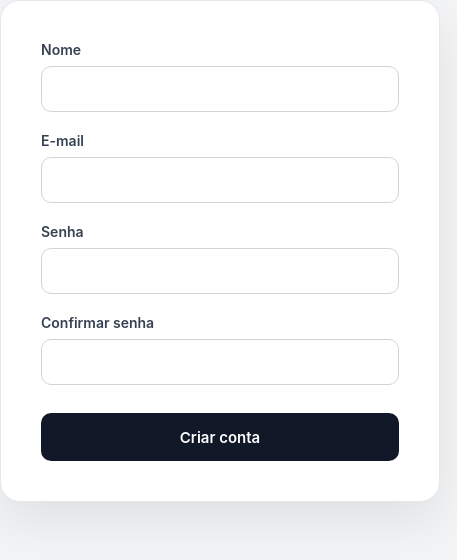
RegisterForm › should display an error when passwords do not match
Type "Senha123" into the password field labelled "Senha" at (220, 271), box [41, 248, 399, 294]
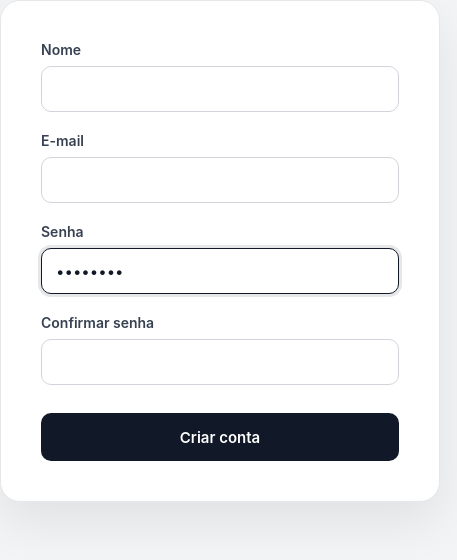
Type "Senha456" into the password field labelled "Confirmar senha" at (220, 362), box [41, 339, 399, 385]
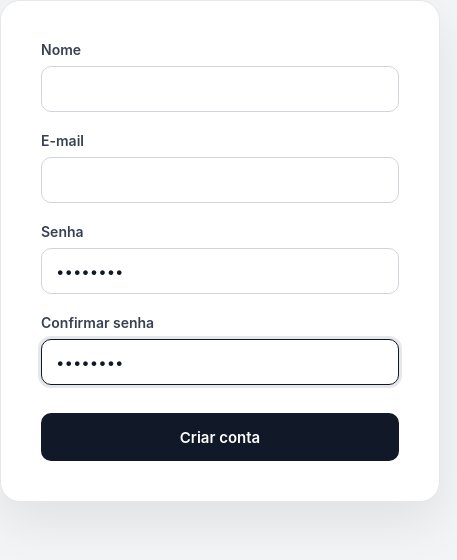
Press Tab
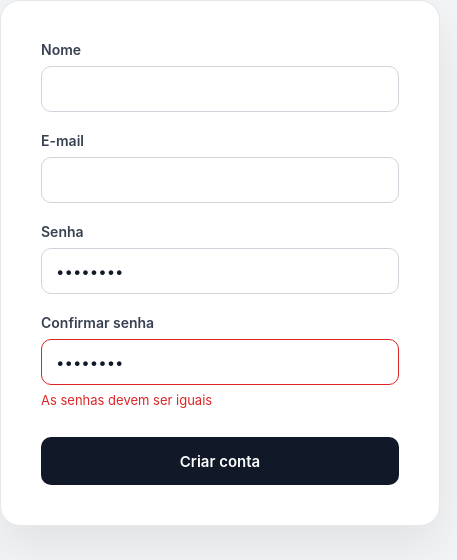
Result: the text "As senhas devem ser iguais" is shown at [41, 392, 212, 408]
